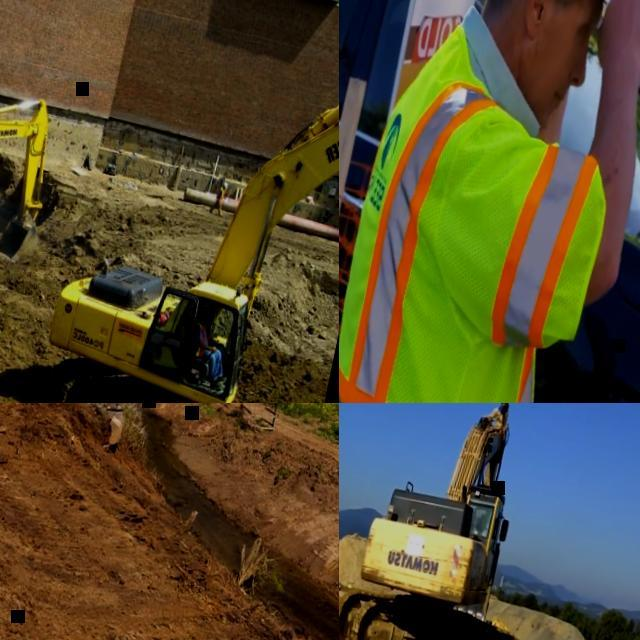helmet: (221, 180, 227, 187)
vest: (339, 15, 629, 403), (190, 320, 212, 357), (473, 524, 487, 535), (216, 185, 224, 198)
